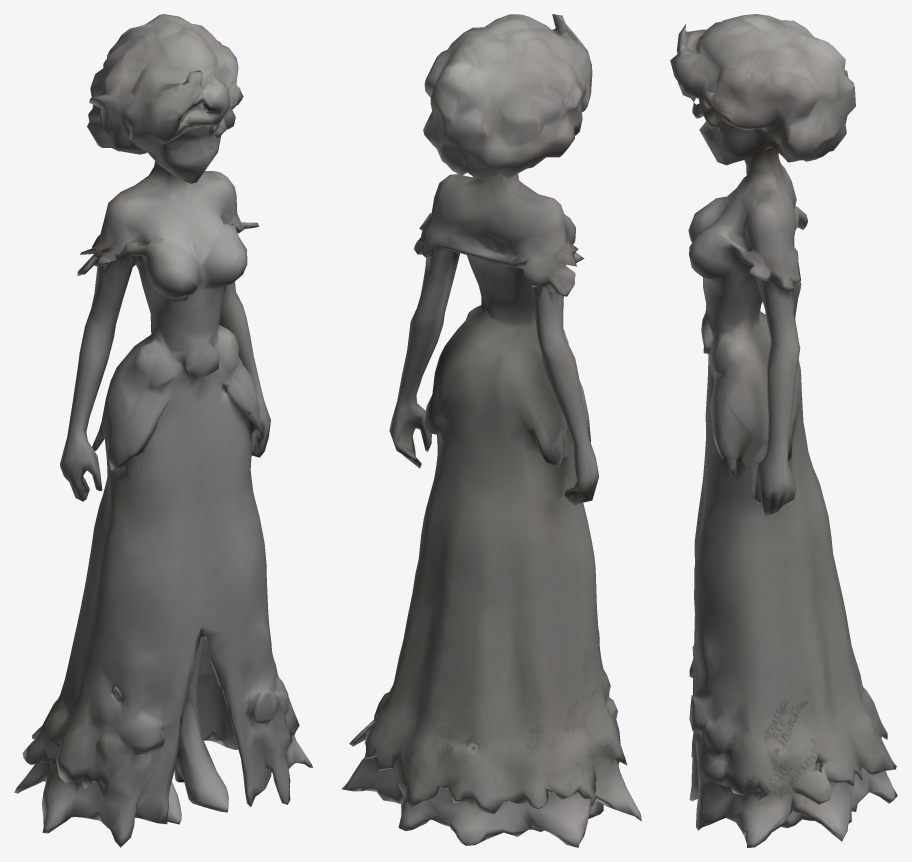
The model's file is anny.glb.
3 views of the same model, side by side, from view 1: azimuth 30°, elevation 25°; view 2: azimuth 150°, elevation 25°; view 3: azimuth 270°, elevation 25° (orthographic).
Bounding box in the file's own units: 0.7288 × 2.02 × 0.5405.
Materials: 1 (1 with a texture image).
